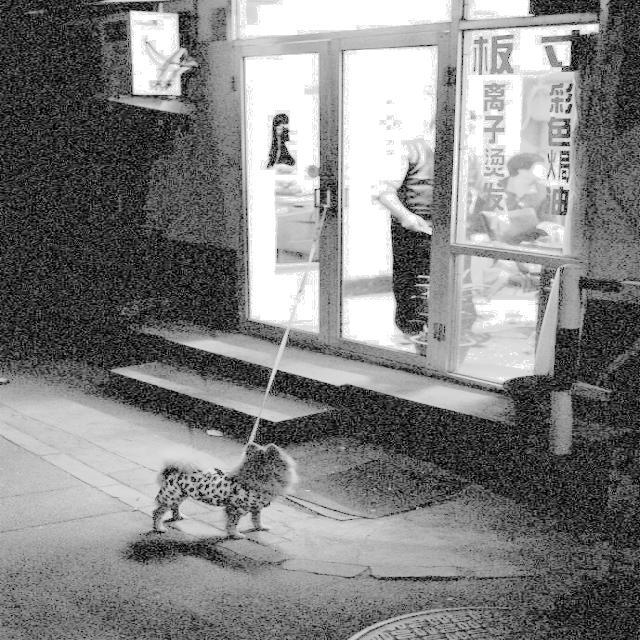Dog: (143, 441, 321, 546)
